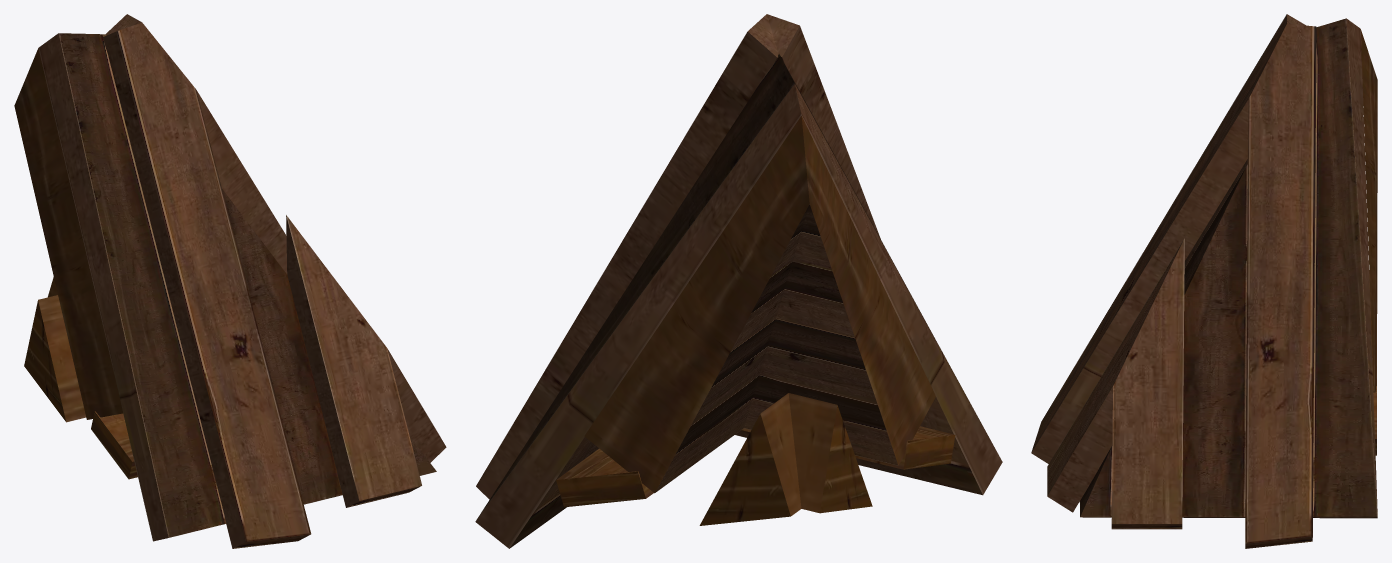
3 views of the same model, side by side, from view 1: azimuth 30°, elevation 25°; view 2: azimuth 150°, elevation 25°; view 3: azimuth 270°, elevation 25° (orthographic). The views are drawn at different scales.
Parts seen in each view (by area): view 1: SM_BB_T2_Roof_Small_Hip_Steep_LOD0; view 2: SM_BB_T2_Roof_Small_Hip_Steep_LOD0; view 3: SM_BB_T2_Roof_Small_Hip_Steep_LOD0.
Boxes of the visible parts, x1,y1,x2,y2 form: SM_BB_T2_Roof_Small_Hip_Steep_LOD0: (14,14,446,548); SM_BB_T2_Roof_Small_Hip_Steep_LOD0: (475,14,1002,548); SM_BB_T2_Roof_Small_Hip_Steep_LOD0: (1031,14,1377,548).
Bounding box in the file's own units: 1 × 1.37 × 1.
2 materials, 2 textured.
